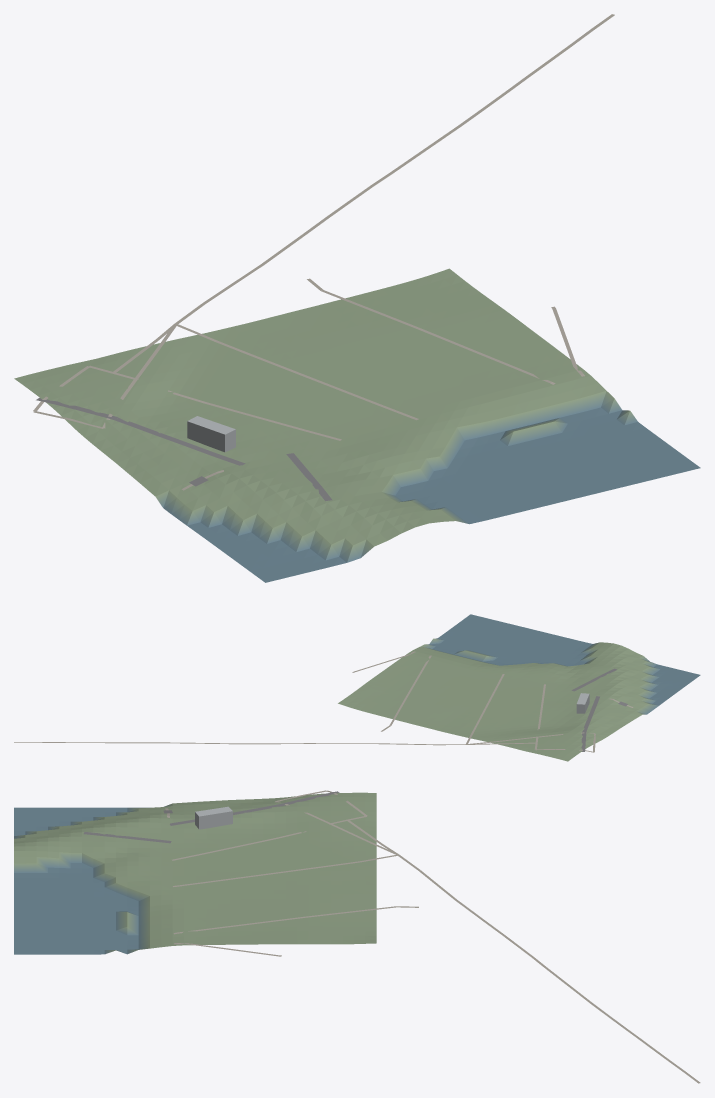
File: tile_5_-3.glb
The picture shows the model from 3 angles, top to bottom: view 1: azimuth 30°, elevation 25°; view 2: azimuth 150°, elevation 25°; view 3: azimuth 270°, elevation 25°; orthographic projection. The views are drawn at different scales.
Parts seen in each view (by area): view 1: terrain, paths, roads, buildings; view 2: terrain, paths, roads; view 3: terrain, paths, roads, buildings.
Part boxes in pixels (<box>): terrain: <box>14,268,700,582</box>; paths: <box>33,14,614,490</box>; roads: <box>36,397,332,501</box>; buildings: <box>187,416,235,452</box>; terrain: <box>338,614,700,761</box>; paths: <box>14,651,633,752</box>; roads: <box>571,668,627,751</box>; terrain: <box>14,792,376,954</box>; paths: <box>165,790,700,1083</box>; roads: <box>83,791,339,843</box>; buildings: <box>195,806,232,829</box>.
Bounding box in the file's own units: 494 × 20.25 × 485.
